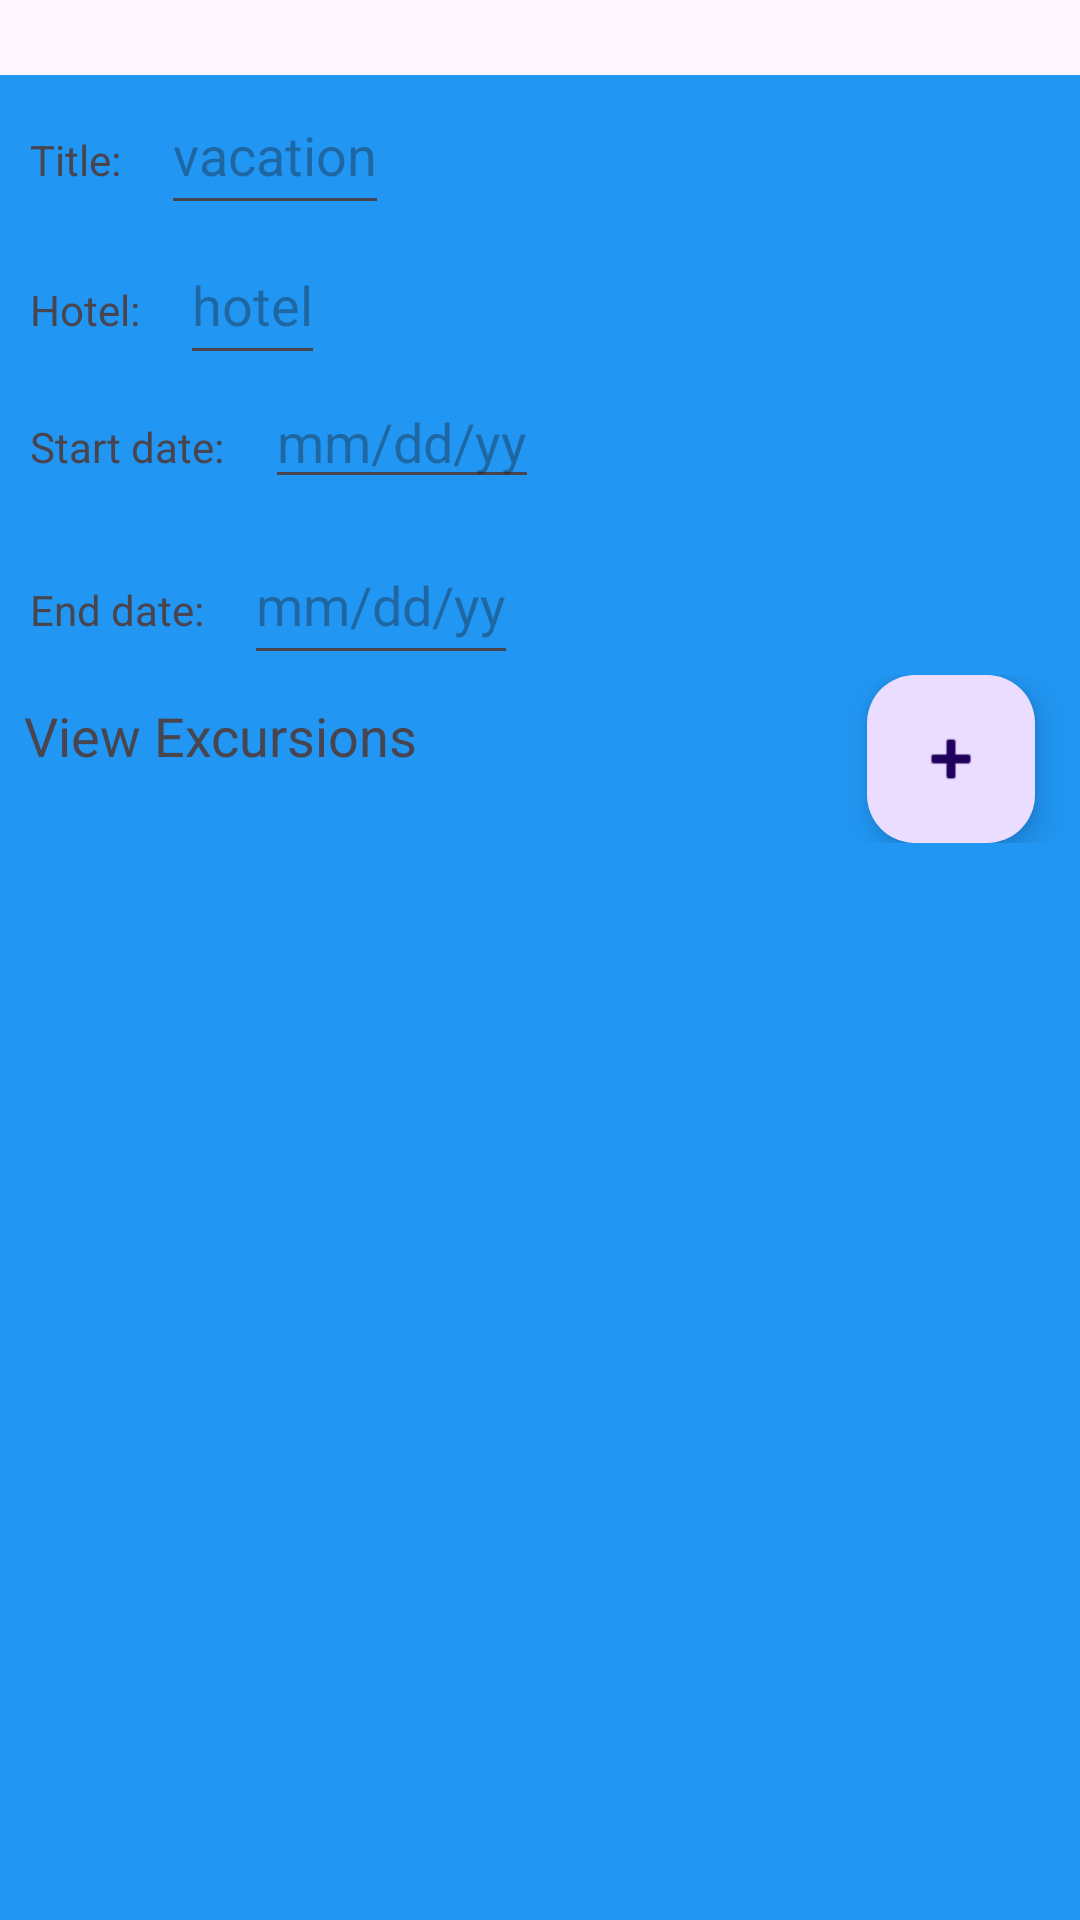

Screen size 1080w x 1920h. Icon name, then its center in pixels as point (x, y):
add: point (951, 759)
